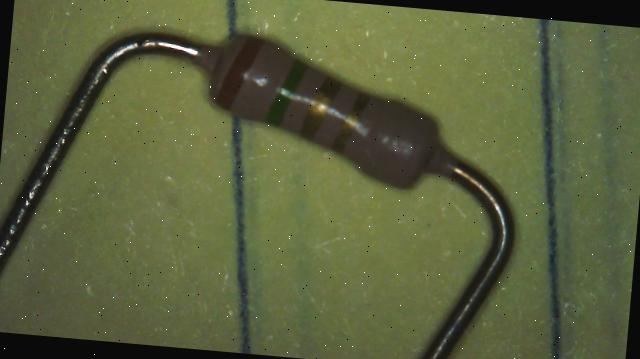brown: (215, 34, 262, 113)
gold: (301, 73, 340, 142), (334, 90, 369, 154)
green: (266, 58, 307, 128)
resistor: (173, 4, 470, 221)
